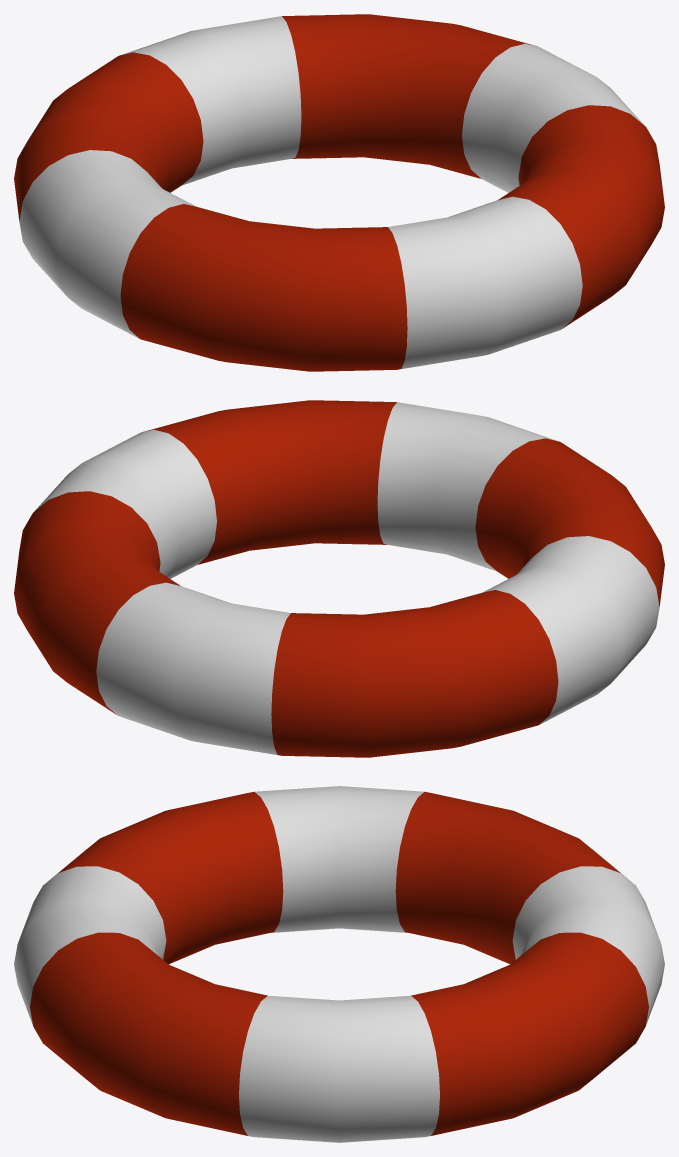
File: liferingfbx.fbx
3 views of the same model, one above another, from view 1: azimuth 30°, elevation 25°; view 2: azimuth 150°, elevation 25°; view 3: azimuth 270°, elevation 25° (orthographic).
Parts seen in each view (by area): view 1: pTorus1; view 2: pTorus1; view 3: pTorus1.
Boxes of the visible parts, x1=… form: pTorus1: x1=14, y1=14, x2=664, y2=371; pTorus1: x1=14, y1=400, x2=664, y2=757; pTorus1: x1=14, y1=786, x2=664, y2=1142.
Size of the model in its own units: 0.9071 by 0.2 by 0.9071.
